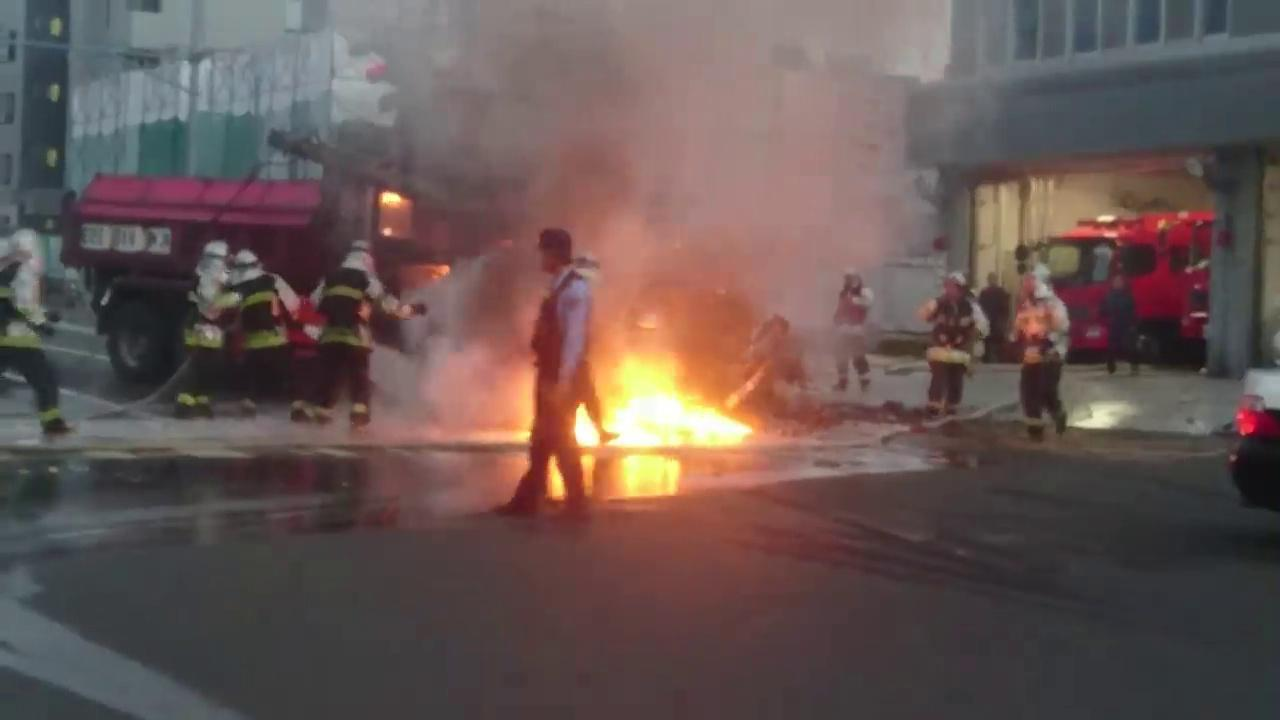Fire: (574, 349, 754, 446)
